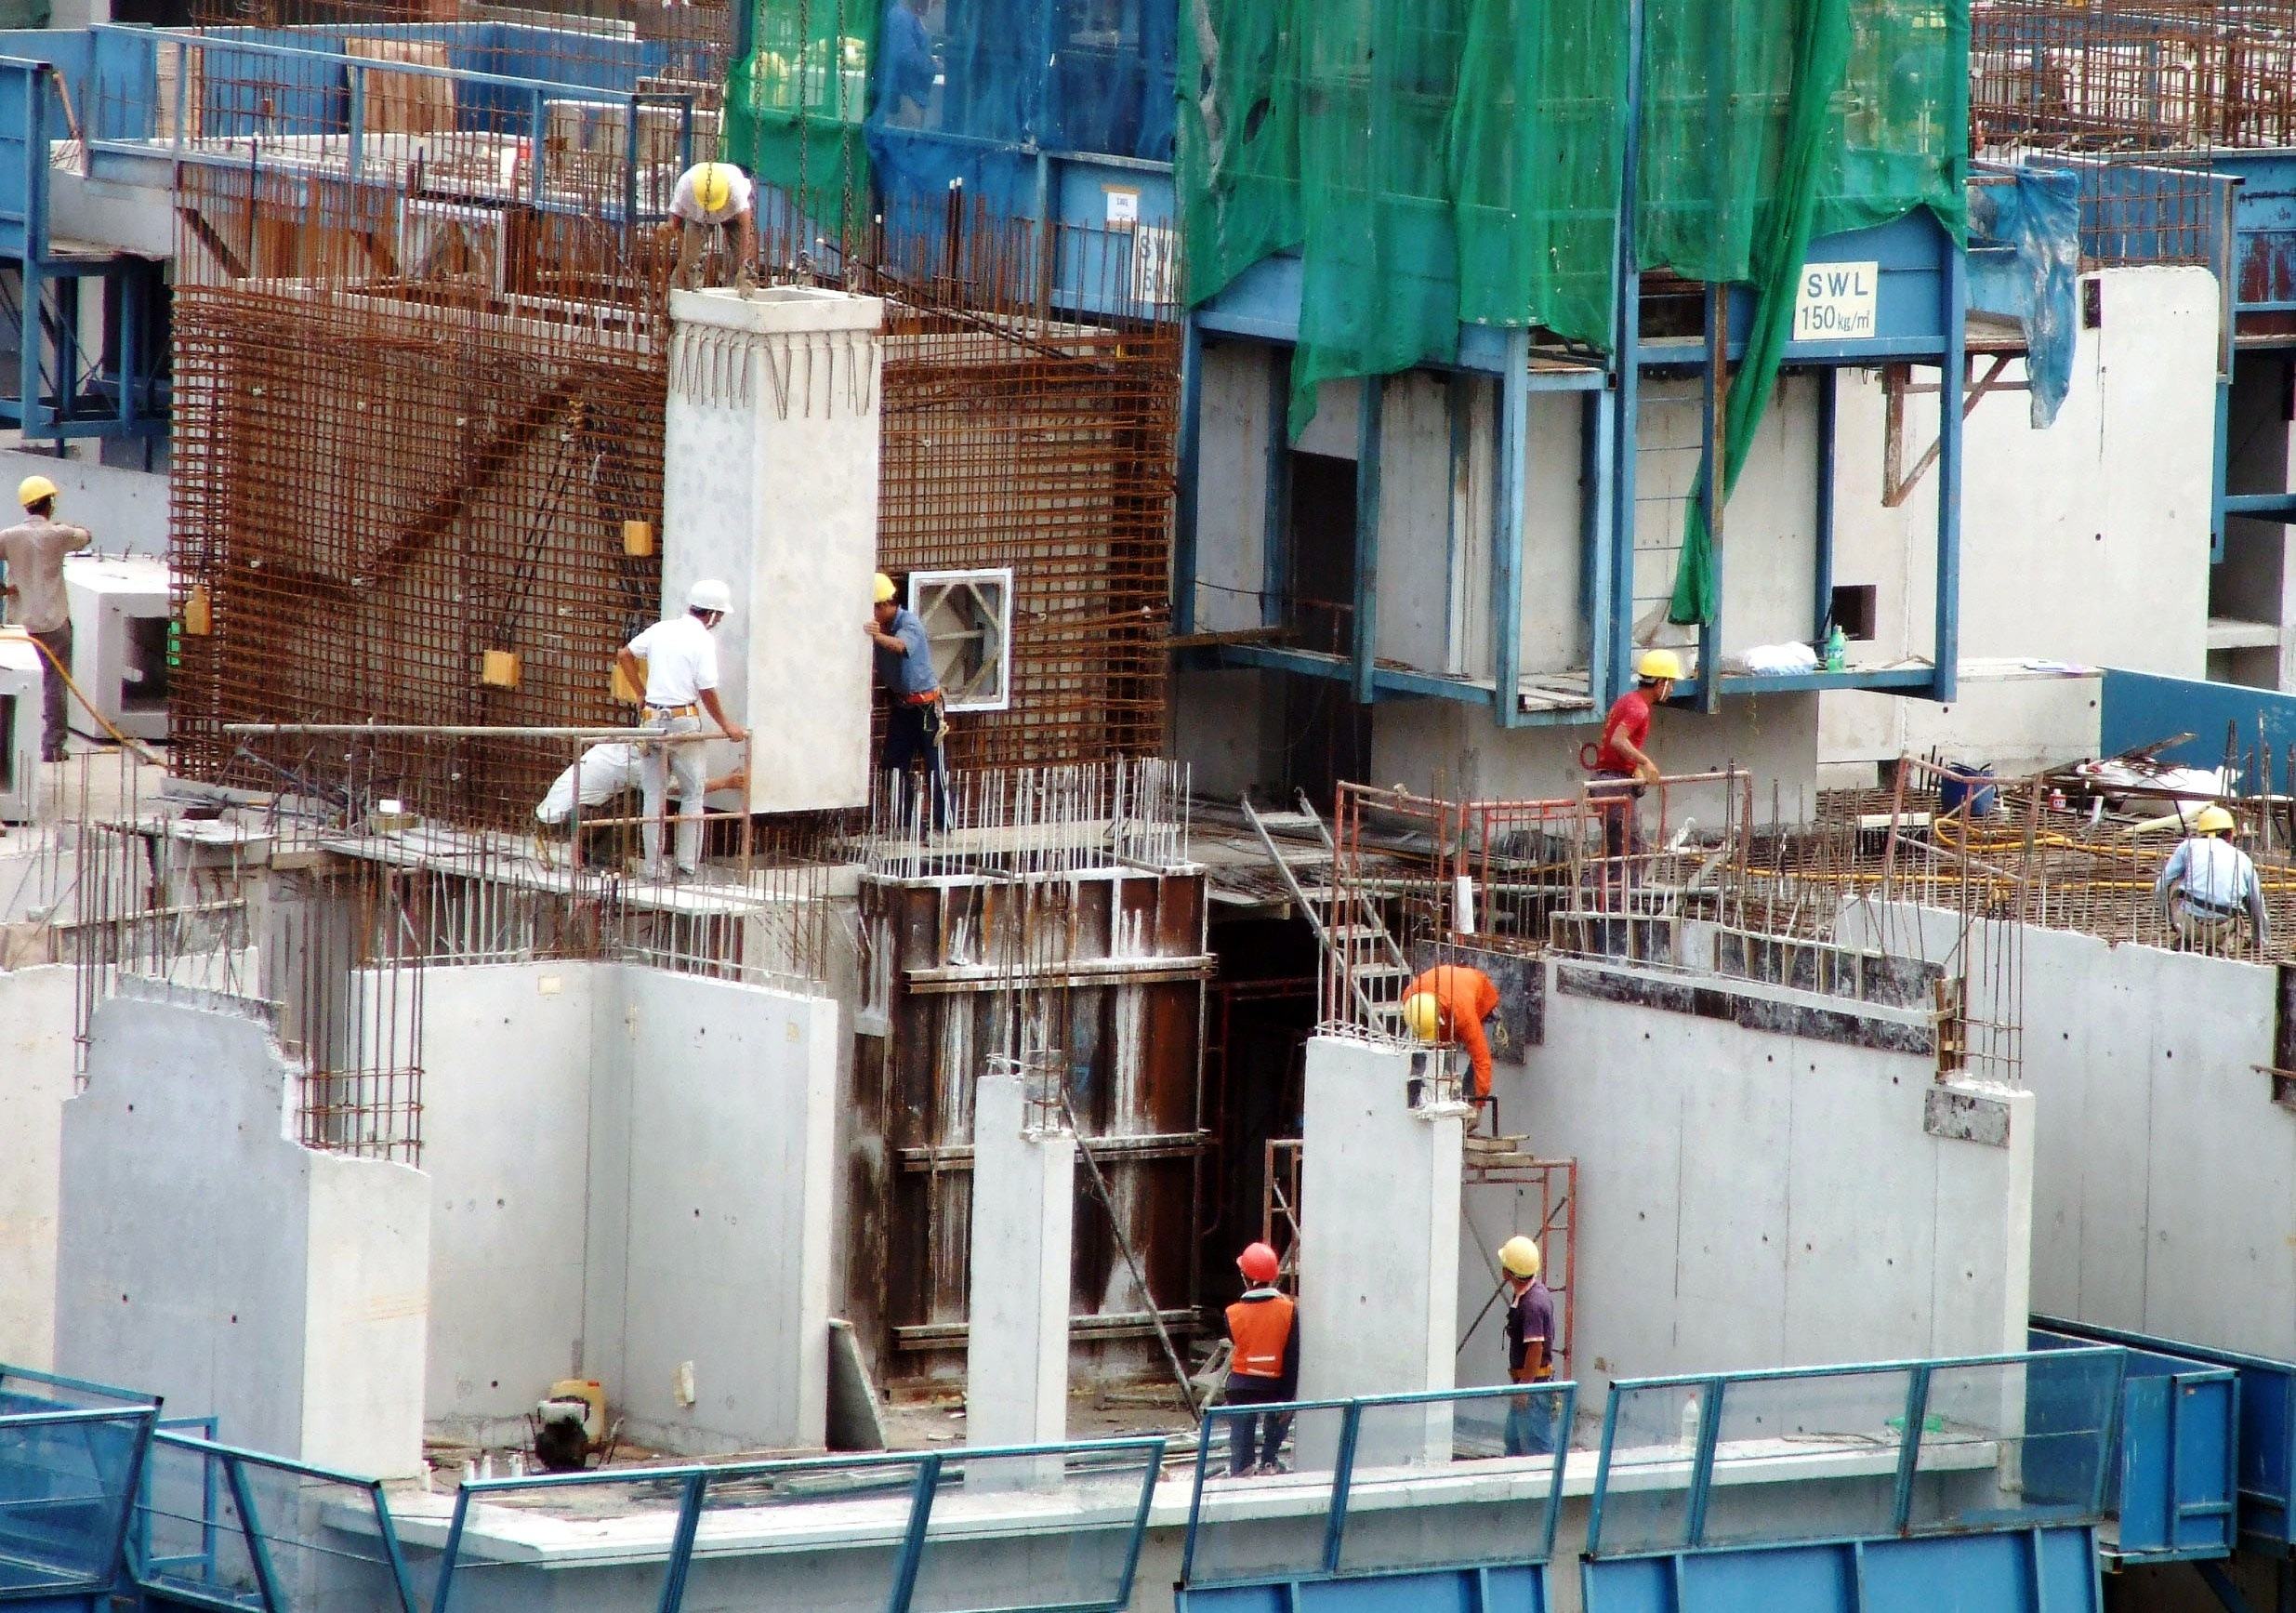red: (1232, 1239, 1281, 1297)
white: (684, 574, 729, 630)
yellow: (1637, 649, 1680, 704), (1499, 1236, 1539, 1290), (691, 162, 729, 216), (1403, 992, 1443, 1040), (16, 473, 56, 522), (1905, 9, 1949, 51), (2193, 805, 2235, 847), (869, 567, 897, 627)
